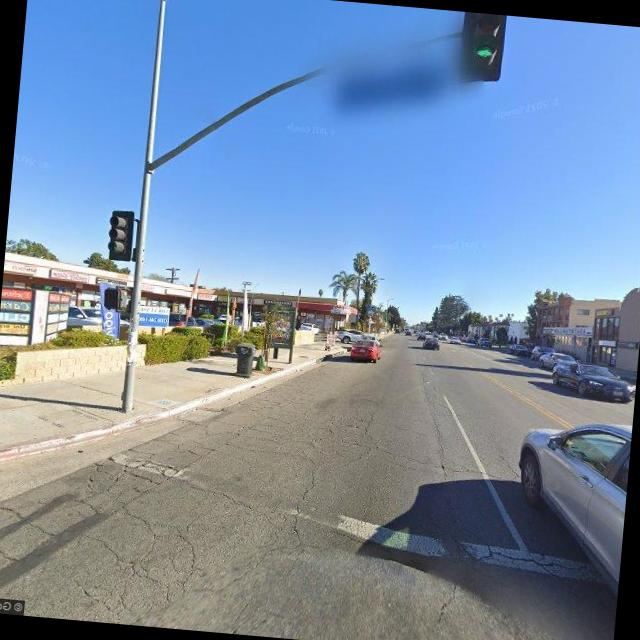crack: (54, 382, 393, 640)
pothole: (435, 576, 463, 628)
